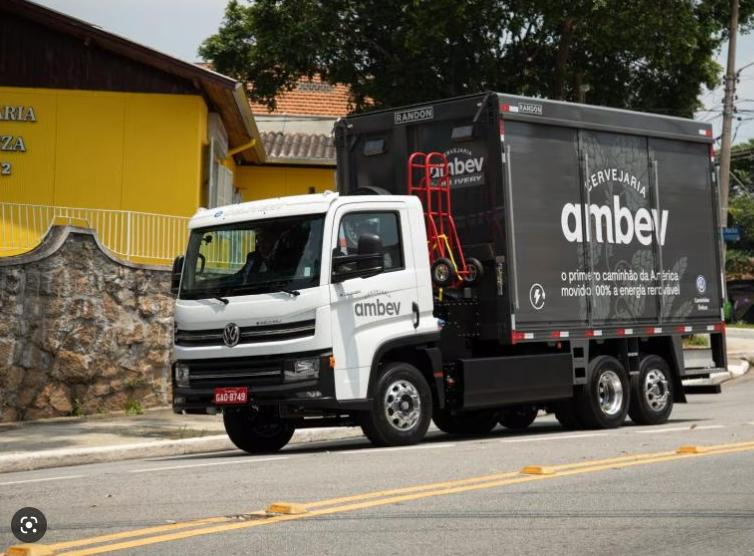vehicle: (172, 91, 727, 453)
